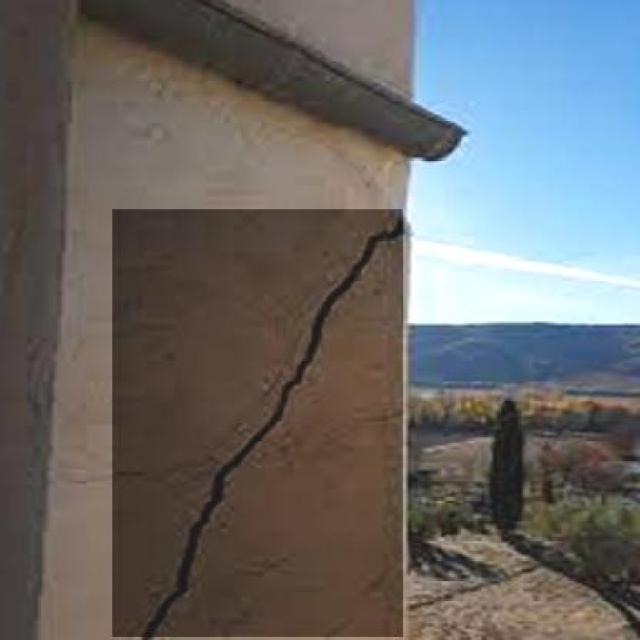Crack: (114, 190, 403, 640)
